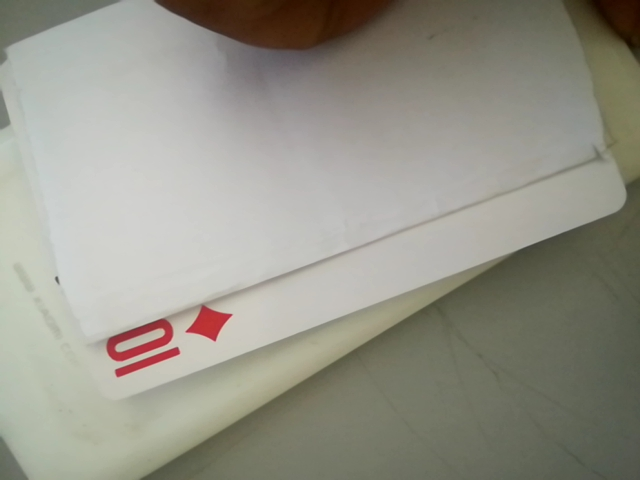fk 10: (92, 305, 233, 385)
